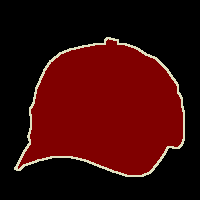hat: (15, 38, 184, 176)
